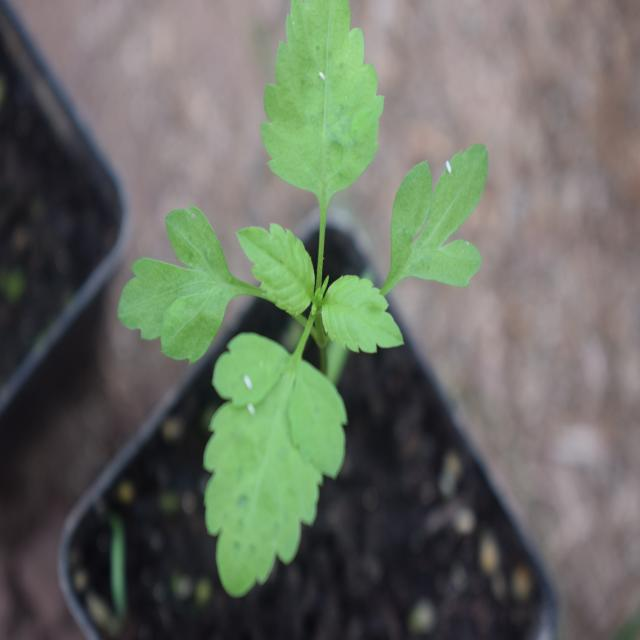Bidens pilosa: (104, 7, 492, 591)
